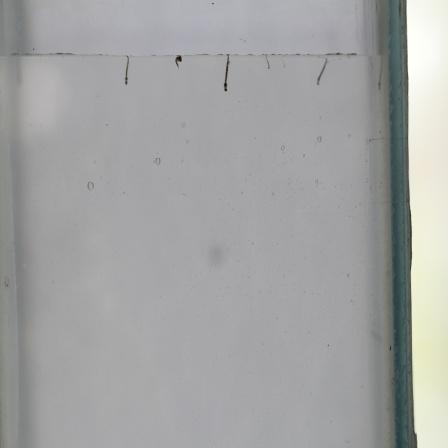Jentik-Nyamuk: (217, 52, 234, 93), (313, 53, 332, 88), (120, 51, 133, 88), (374, 55, 385, 92), (170, 51, 187, 73), (261, 53, 275, 71)
